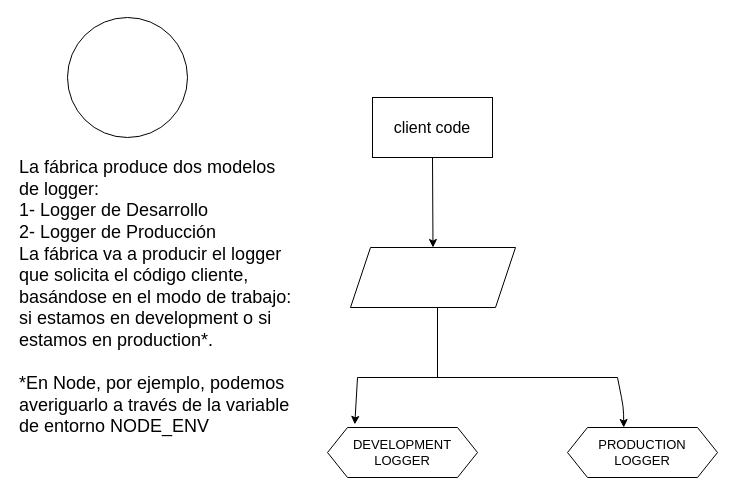
The diagram is 735 pixels wide and 495 high, and some of its shapes have lost their labels. Each missing label, with the centre of its shape:
abstract factory: (x=127, y=77)
LOGGER FACTORY: (x=433, y=277)
